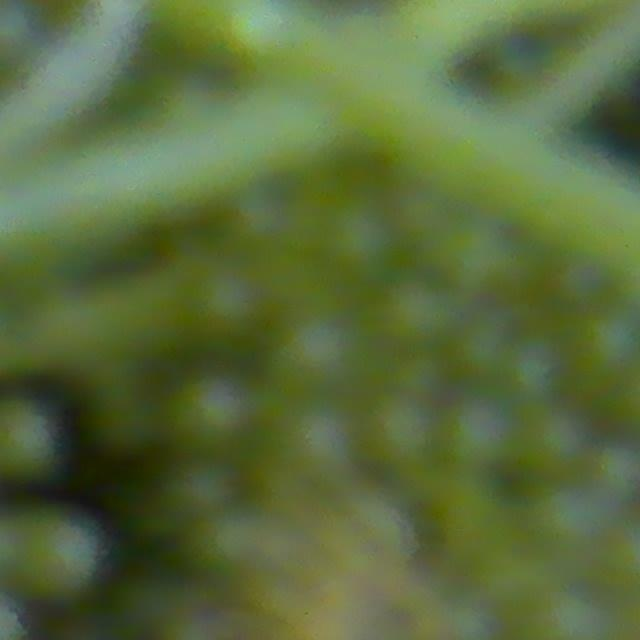SeaGrape: (266, 316, 357, 410), (12, 507, 106, 591), (435, 215, 525, 298), (169, 368, 254, 455), (320, 192, 403, 279), (187, 258, 269, 342), (376, 276, 456, 352), (566, 302, 640, 384), (529, 573, 619, 640), (352, 392, 426, 470), (519, 403, 593, 479), (0, 384, 52, 485), (527, 481, 596, 555), (438, 403, 509, 474), (166, 458, 237, 522), (587, 440, 640, 507), (393, 349, 448, 403)
